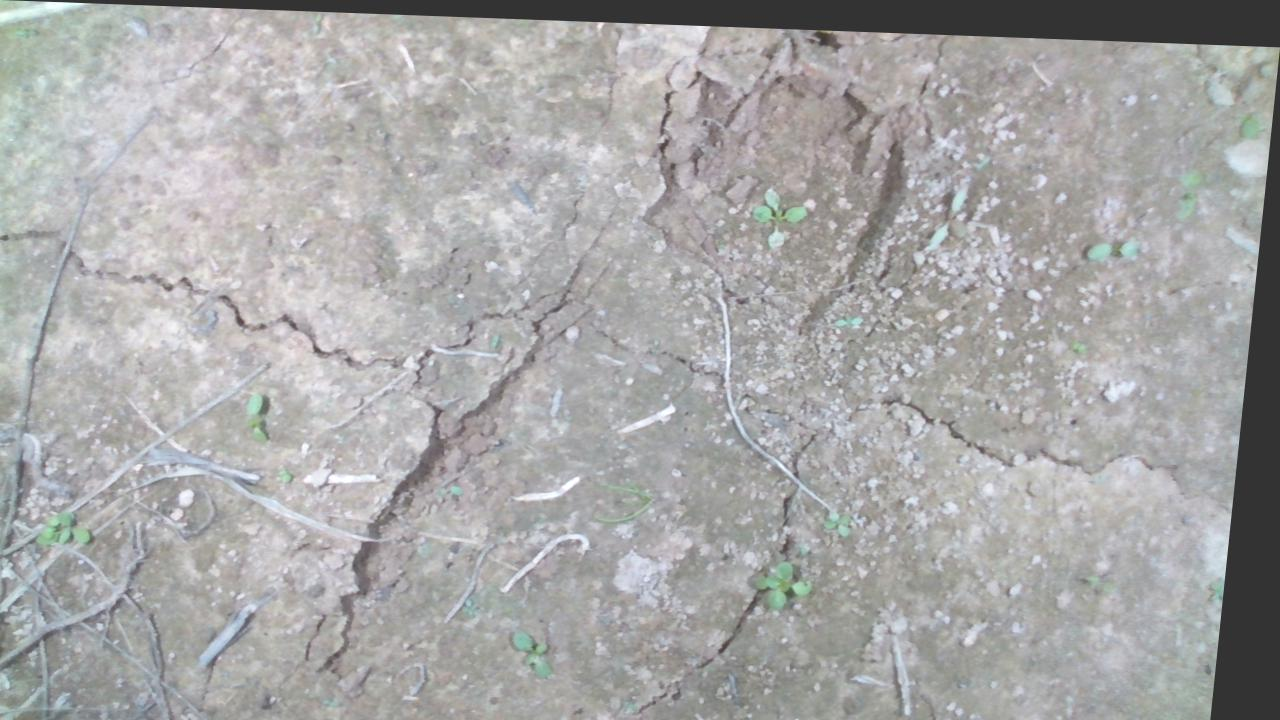weed: (750, 179, 814, 242), (930, 170, 972, 244), (520, 624, 569, 675), (1088, 225, 1147, 253), (251, 387, 281, 440), (831, 498, 863, 528), (288, 466, 303, 481)
